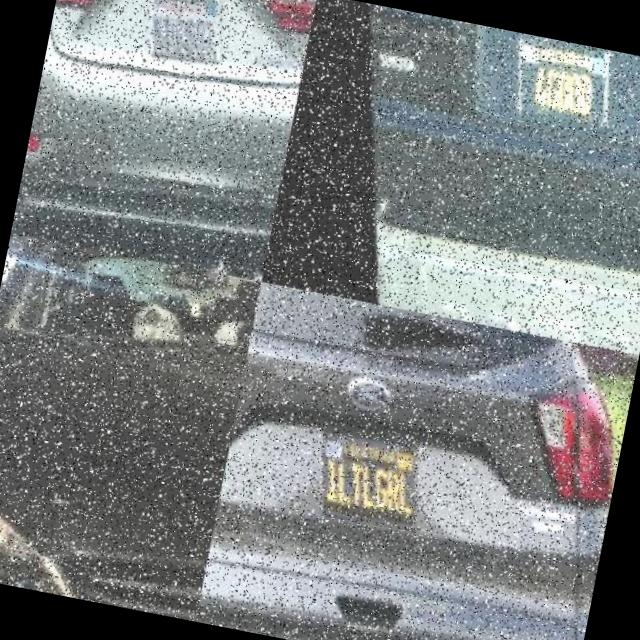LicensePlate: (298, 406, 436, 535), (493, 32, 623, 150), (136, 0, 229, 64)
